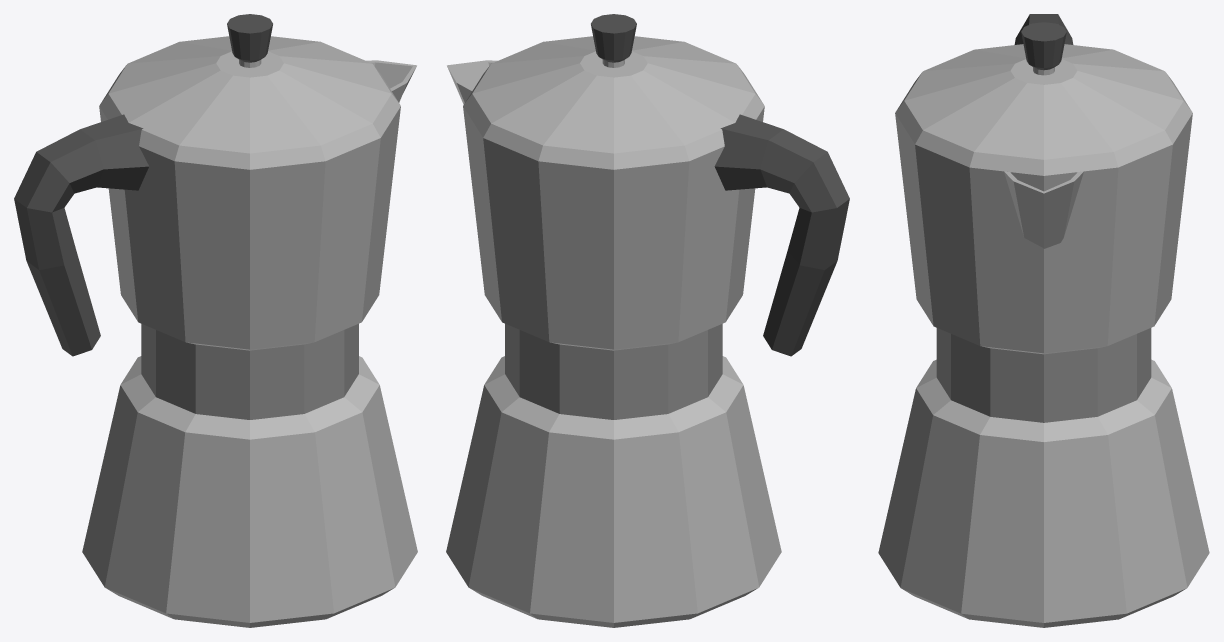
The model's file is Cezve_01.fbx.
The picture shows the model from 3 angles, left to right: view 1: azimuth 30°, elevation 25°; view 2: azimuth 150°, elevation 25°; view 3: azimuth 270°, elevation 25°; orthographic projection.
Parts seen in each view (by area): view 1: Cezve_01; view 2: Cezve_01; view 3: Cezve_01.
Part boxes in pixels (<box>): Cezve_01: <box>14,14,417,627</box>; Cezve_01: <box>446,14,849,627</box>; Cezve_01: <box>878,14,1209,627</box>.
Bounding box in the file's own units: 16.3 × 21.19 × 11.94.
